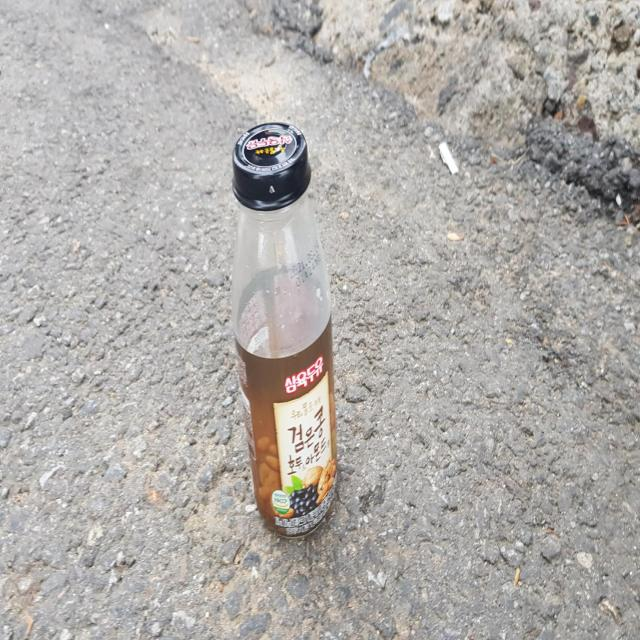glass: (232, 123, 337, 537)
